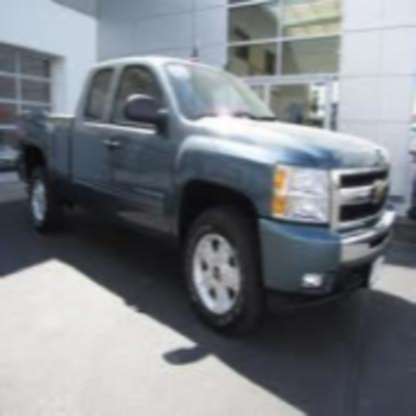Vehicle: (18, 51, 394, 354)
